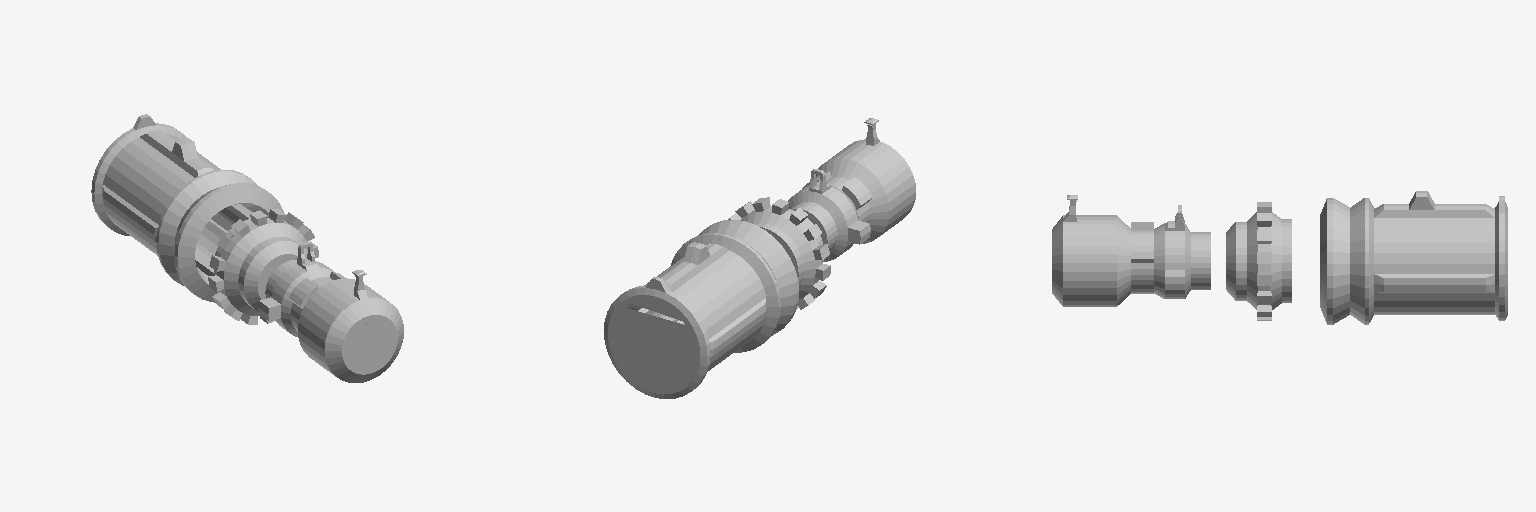
File: rocketlauncher.obj
3 views of the same model, side by side, from view 1: azimuth 30°, elevation 25°; view 2: azimuth 150°, elevation 25°; view 3: azimuth 270°, elevation 25° (orthographic).
Parts seen in each view (by area): view 1: Cylinder; view 2: Cylinder; view 3: Cylinder.
Part boxes in pixels (bbox=[...]): Cylinder: bbox=[91, 114, 403, 382]; Cylinder: bbox=[604, 118, 915, 398]; Cylinder: bbox=[1052, 191, 1507, 324].
Bounding box in the file's own units: 2.38 × 2.6 × 8.5.